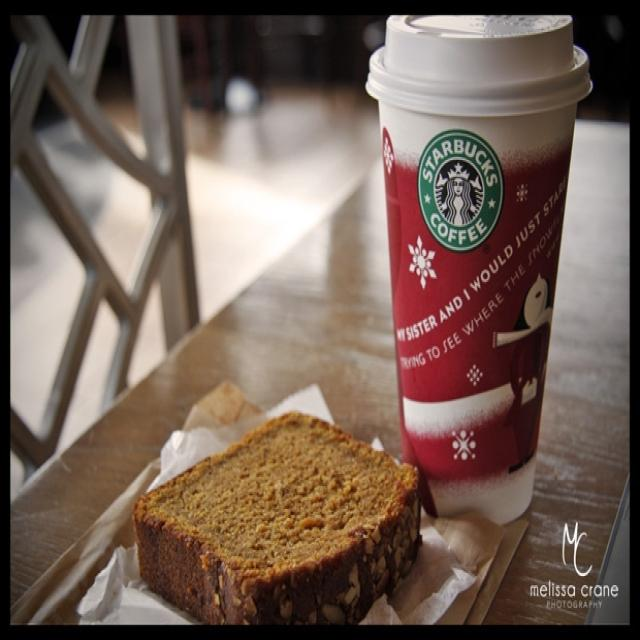starbucks: (417, 127, 506, 254)
